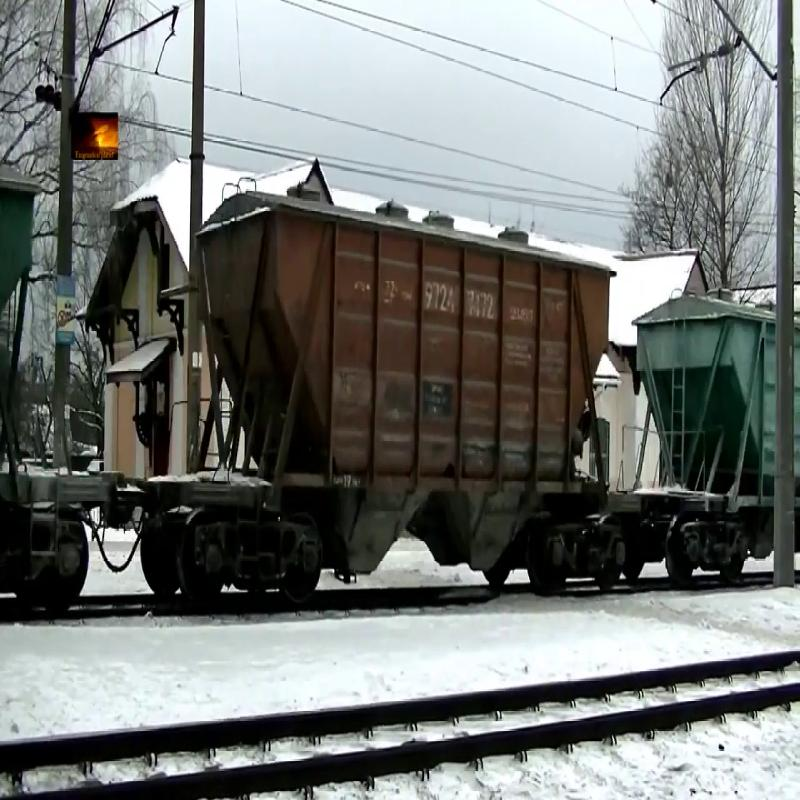train: (194, 215, 610, 611)
